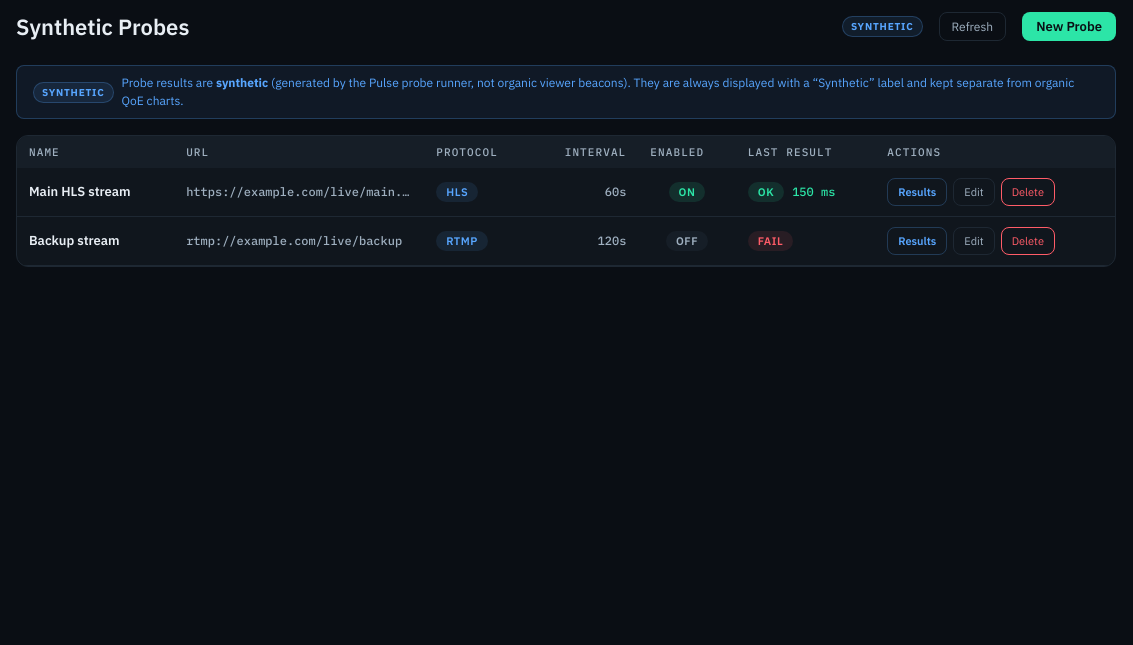
ProbesPage WebRTC columns › renders 'failed' badge for ice_state='failed'
Expected: the text "Main HLS stream" is shown, 17,168 -> 174,216
What coordinates should you click on to do the following:
click the button with aria-label "view results for"
I would click on:
 (917, 192)
Its box is 887,178 -> 947,206.
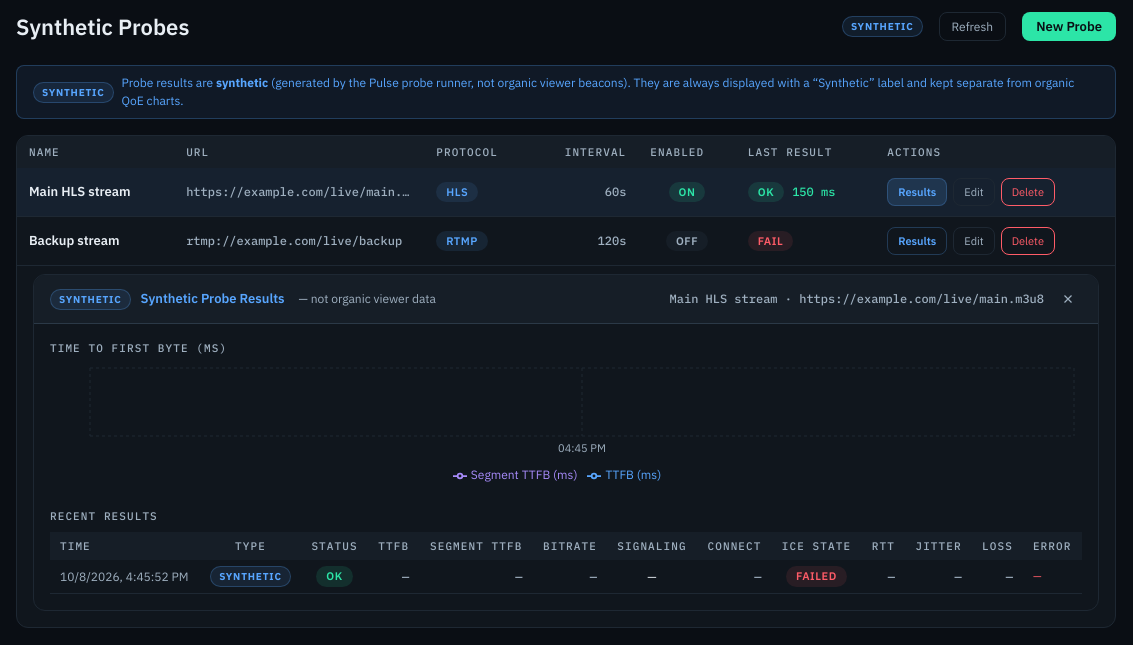
Now the text "Synthetic Probe Results" is shown, box 141,289 -> 285,309
Now the text "failed" is shown, box 786,566 -> 847,587
